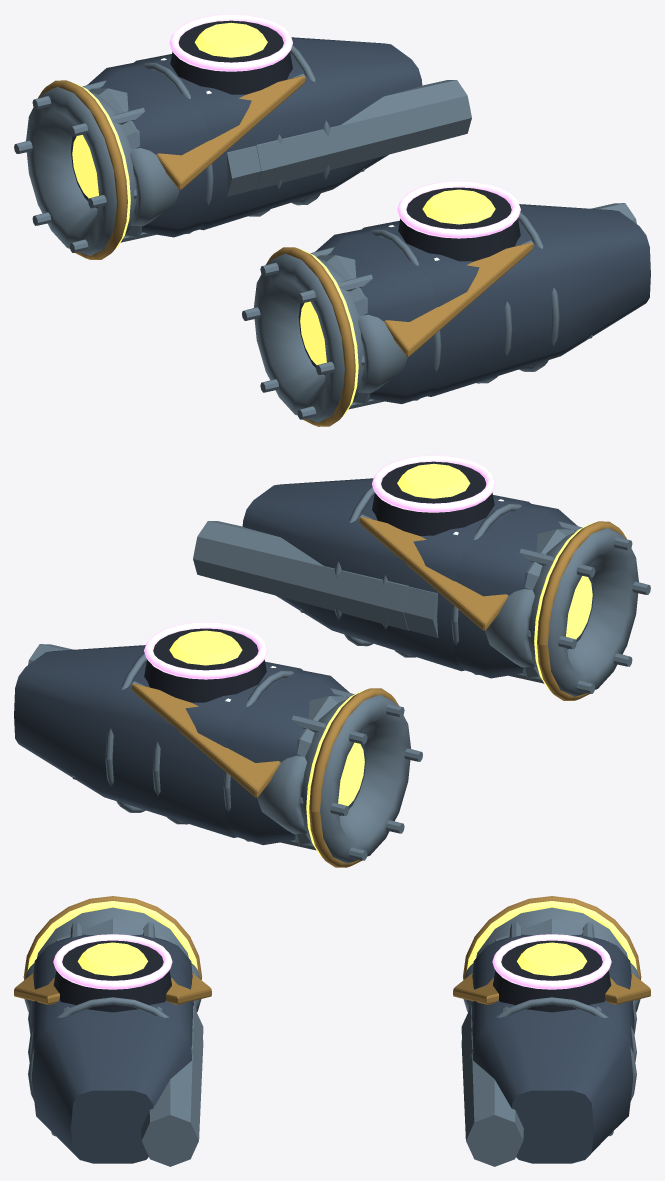
File: engine.glb
The picture shows the model from 3 angles, top to bottom: view 1: azimuth 30°, elevation 25°; view 2: azimuth 150°, elevation 25°; view 3: azimuth 270°, elevation 25°; orthographic projection. The views are drawn at different scales.
Visible parts, largest first — view 1: e_twin Fitting gunmetal, e_nova Brushed fitting edges, e_twin Brushed fitting edges, e_nova Fitting gunmetal, e_nova Champagne gold edging, e_fusion Machined graphite, e_fusion e_fusion emitter, e_fusion Fusion amber core, e_ion Brushed fitting edges, e_nova e_nova emitter, e_fusion Brushed fitting edges; view 2: e_twin Fitting gunmetal, e_nova Brushed fitting edges, e_twin Brushed fitting edges, e_nova Fitting gunmetal, e_nova Champagne gold edging, e_fusion Machined graphite, e_fusion e_fusion emitter, e_fusion Fusion amber core, e_ion Brushed fitting edges, e_nova e_nova emitter, e_fusion Brushed fitting edges; view 3: e_twin Fitting gunmetal, e_twin Brushed fitting edges, e_fusion Machined graphite, e_nova Champagne gold edging, e_nova Brushed fitting edges, e_fusion e_fusion emitter, e_fusion Fusion amber core, e_nova e_nova emitter, e_ion Brushed fitting edges, e_nova Fitting gunmetal, e_fusion Brushed fitting edges.
Boxes of the visible parts, bbox=[...] form: e_twin Fitting gunmetal: bbox=[134, 37, 650, 396]; e_nova Brushed fitting edges: bbox=[14, 80, 384, 422]; e_twin Brushed fitting edges: bbox=[130, 73, 636, 393]; e_nova Fitting gunmetal: bbox=[71, 63, 437, 404]; e_nova Champagne gold edging: bbox=[38, 76, 533, 426]; e_fusion Machined graphite: bbox=[170, 20, 520, 261]; e_fusion e_fusion emitter: bbox=[169, 14, 520, 238]; e_fusion Fusion amber core: bbox=[194, 22, 495, 224]; e_ion Brushed fitting edges: bbox=[143, 45, 559, 400]; e_nova e_nova emitter: bbox=[71, 82, 358, 416]; e_fusion Brushed fitting edges: bbox=[89, 88, 592, 404]; e_twin Fitting gunmetal: bbox=[14, 478, 530, 837]; e_nova Brushed fitting edges: bbox=[280, 521, 650, 863]; e_twin Brushed fitting edges: bbox=[28, 514, 534, 834]; e_nova Fitting gunmetal: bbox=[226, 504, 593, 845]; e_nova Champagne gold edging: bbox=[131, 517, 626, 867]; e_fusion Machined graphite: bbox=[144, 461, 494, 702]; e_fusion e_fusion emitter: bbox=[144, 455, 495, 679]; e_fusion Fusion amber core: bbox=[169, 463, 470, 665]; e_ion Brushed fitting edges: bbox=[105, 486, 521, 841]; e_nova e_nova emitter: bbox=[306, 523, 593, 857]; e_fusion Brushed fitting edges: bbox=[72, 529, 575, 845]; e_twin Fitting gunmetal: bbox=[30, 957, 634, 1163]; e_twin Brushed fitting edges: bbox=[24, 963, 640, 1166]; e_fusion Machined graphite: bbox=[53, 940, 611, 1012]; e_nova Champagne gold edging: bbox=[14, 896, 650, 1004]; e_nova Brushed fitting edges: bbox=[37, 907, 627, 1038]; e_fusion e_fusion emitter: bbox=[53, 934, 611, 989]; e_fusion Fusion amber core: bbox=[77, 942, 587, 976]; e_nova e_nova emitter: bbox=[27, 901, 637, 970]; e_ion Brushed fitting edges: bbox=[28, 997, 636, 1100]; e_nova Fitting gunmetal: bbox=[33, 934, 631, 981]; e_fusion Brushed fitting edges: bbox=[51, 918, 613, 1136].
Bounding box in the file's own units: 15.81 × 7.34 × 24.22.
